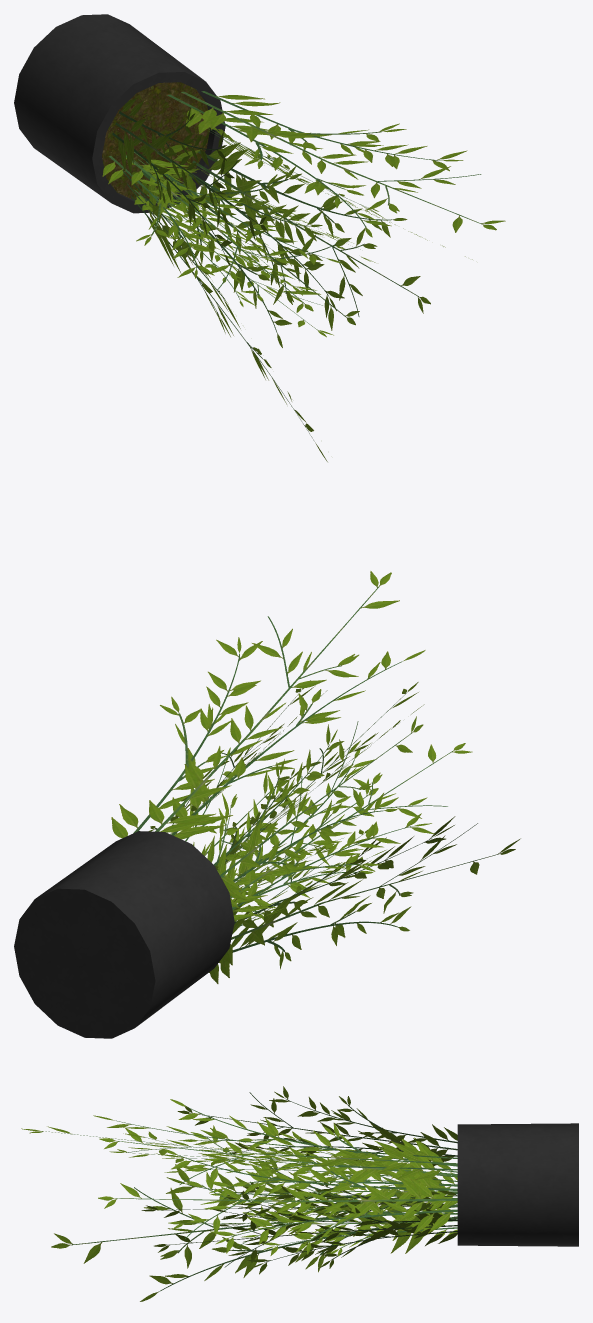
The picture shows the model from 3 angles, top to bottom: view 1: azimuth 30°, elevation 25°; view 2: azimuth 150°, elevation 25°; view 3: azimuth 270°, elevation 25°; orthographic projection. The views are drawn at different scales.
Parts seen in each view (by area): view 1: Pot_10_Low_PolyPlant_0; view 2: Pot_10_Low_PolyPlant_0; view 3: Pot_10_Low_PolyPlant_0.
Boxes of the visible parts, box(x1,y1,x2,y2) form: Pot_10_Low_PolyPlant_0: box(14, 14, 505, 461); Pot_10_Low_PolyPlant_0: box(14, 571, 520, 1038); Pot_10_Low_PolyPlant_0: box(21, 1086, 578, 1301).
Bounding box in the file's own units: 0.9064 × 0.8938 × 1.96.
Materials: 1 (1 with a texture image).
